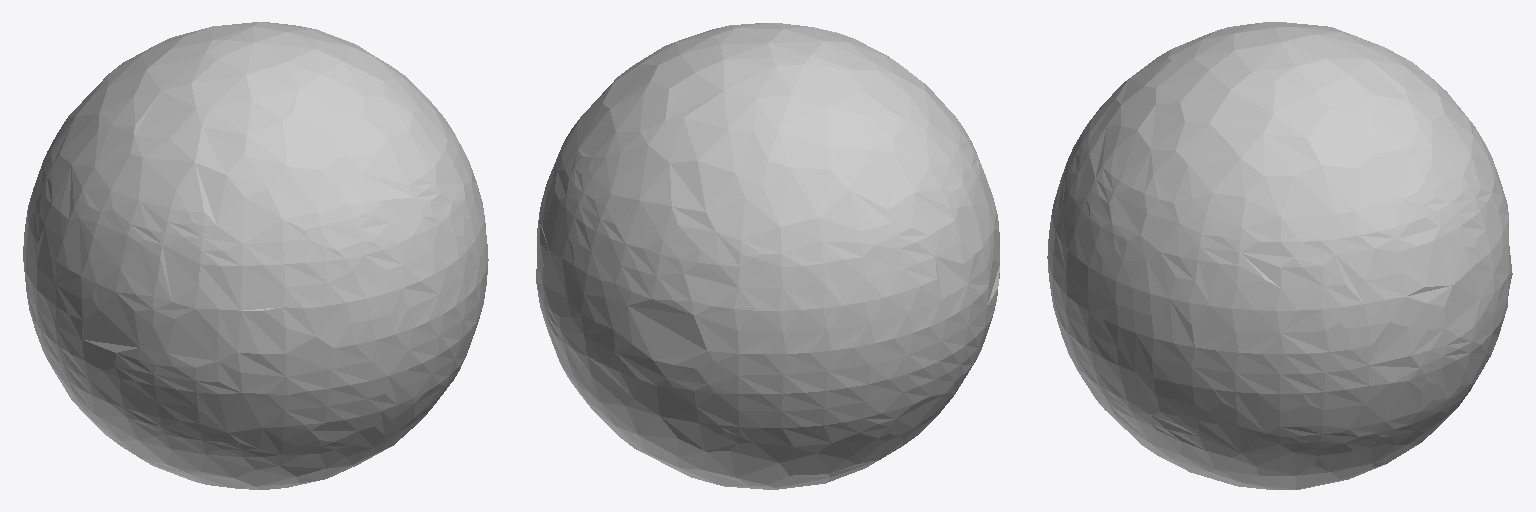
The model's file is Neptune.obj.
The picture shows the model from 3 angles: view 1: azimuth 30°, elevation 25°; view 2: azimuth 150°, elevation 25°; view 3: azimuth 270°, elevation 25°; orthographic projection.
Parts seen in each view (by area): view 1: Sphere002; view 2: Sphere002; view 3: Sphere002.
Part boxes in pixels (x1,y1,x2,y2): Sphere002: (23, 22, 488, 489); Sphere002: (536, 23, 999, 489); Sphere002: (1047, 22, 1512, 489).
Bounding box in the file's own units: 317289 × 320809 × 316846.